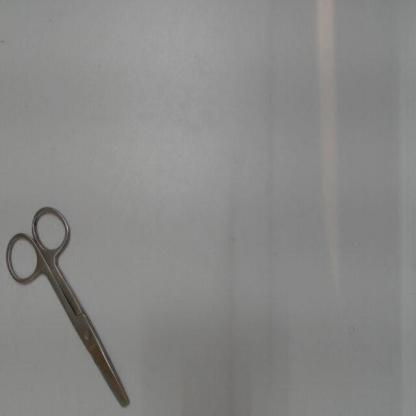Dressing Scissors: (1, 198, 142, 414)
